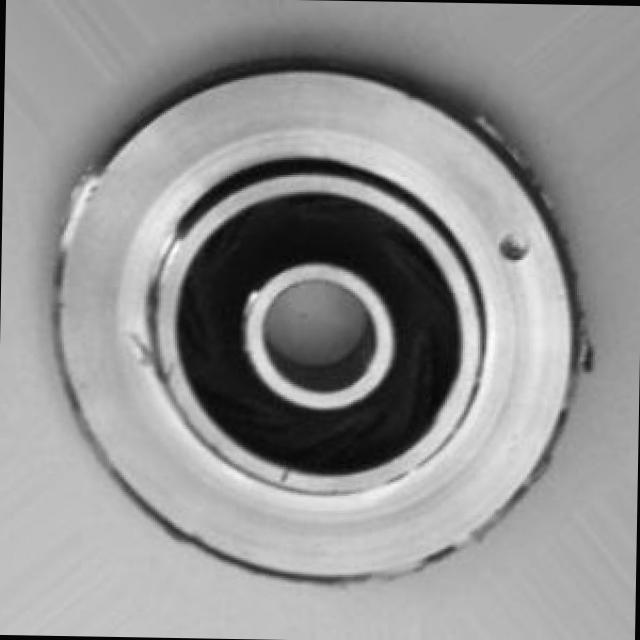Defect: (498, 231, 530, 264)
